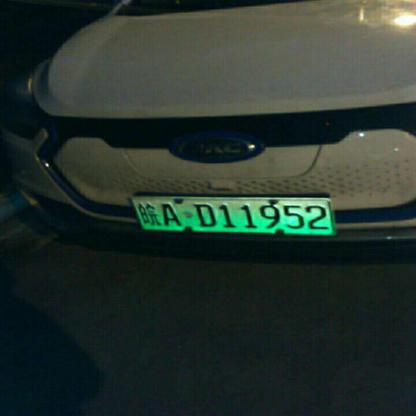lp: (132, 198, 332, 233)
